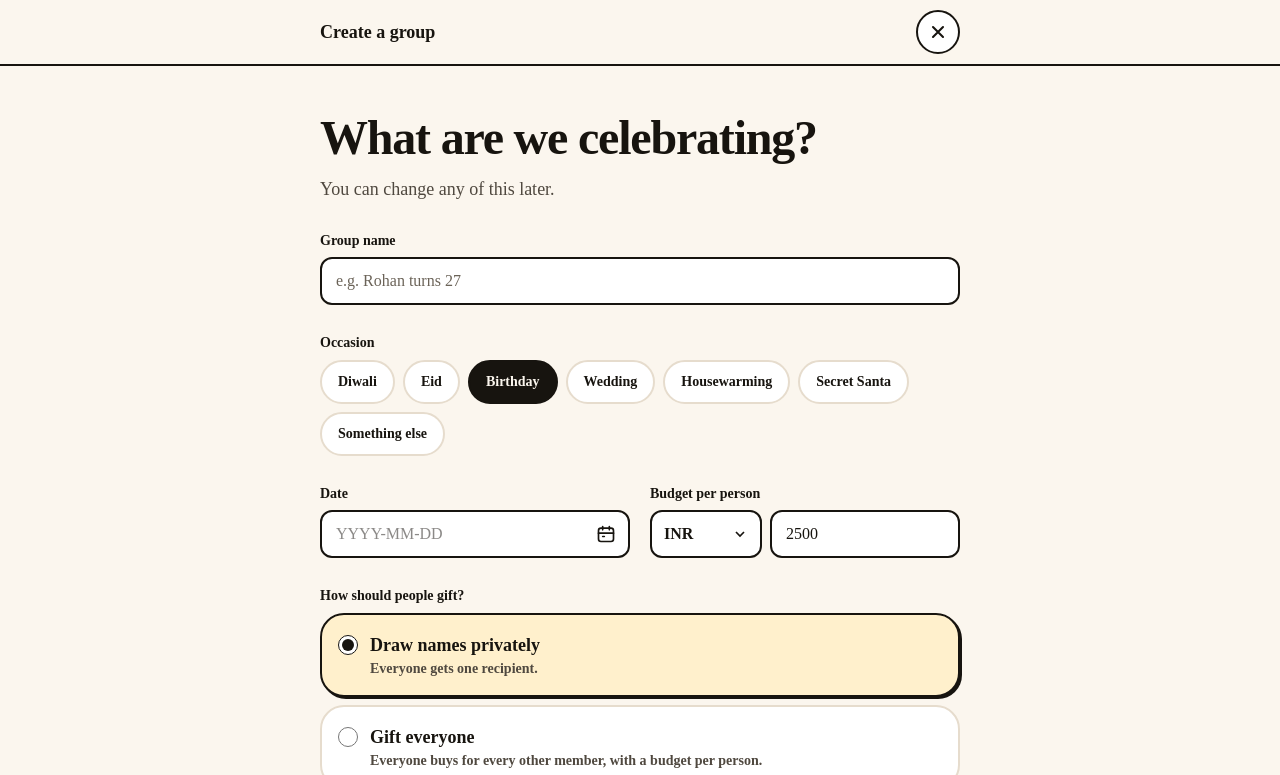
Test: CreateGroupScreen › still rejects impossible manually typed dates before any action
Type "Dinner together" into the field labelled "Group name" at (640,280), box [320,256,960,304]
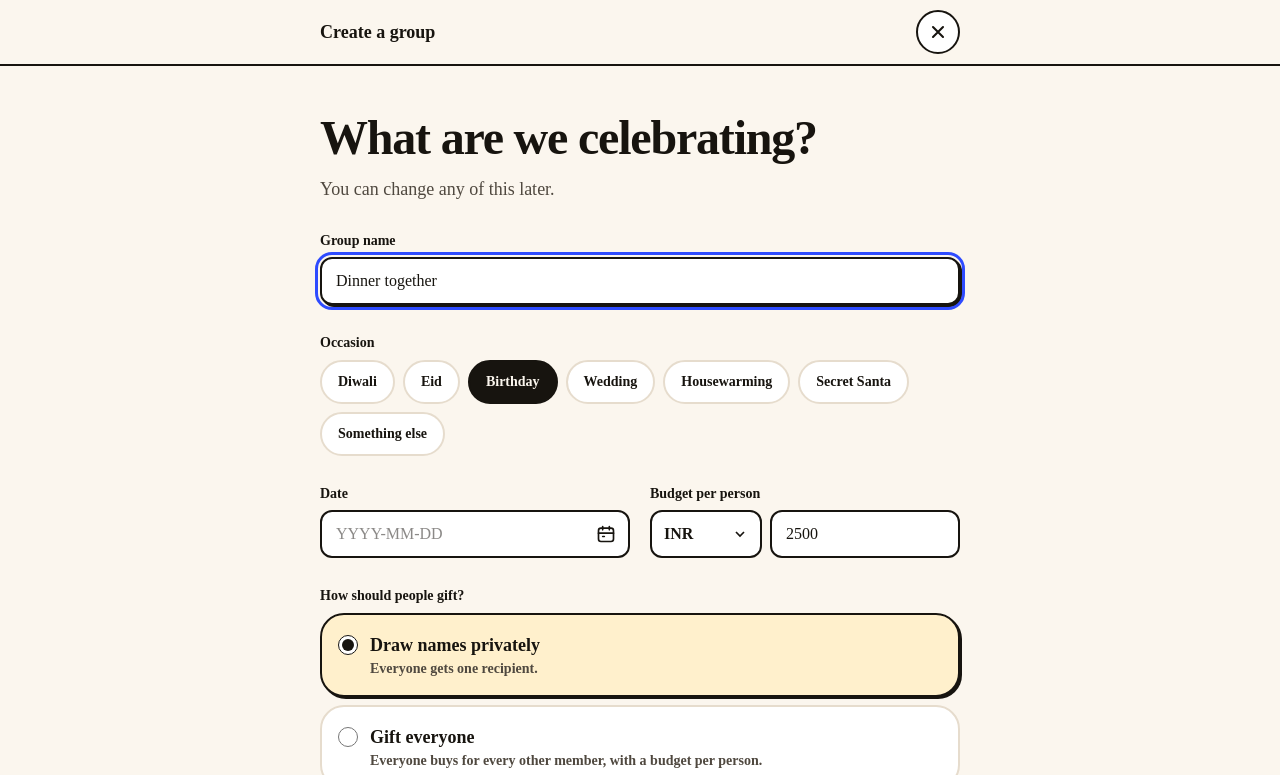
Type "2027-02-29" into the field labelled "Date" at (475,534), box [320,510,630,558]
(page scrolled)
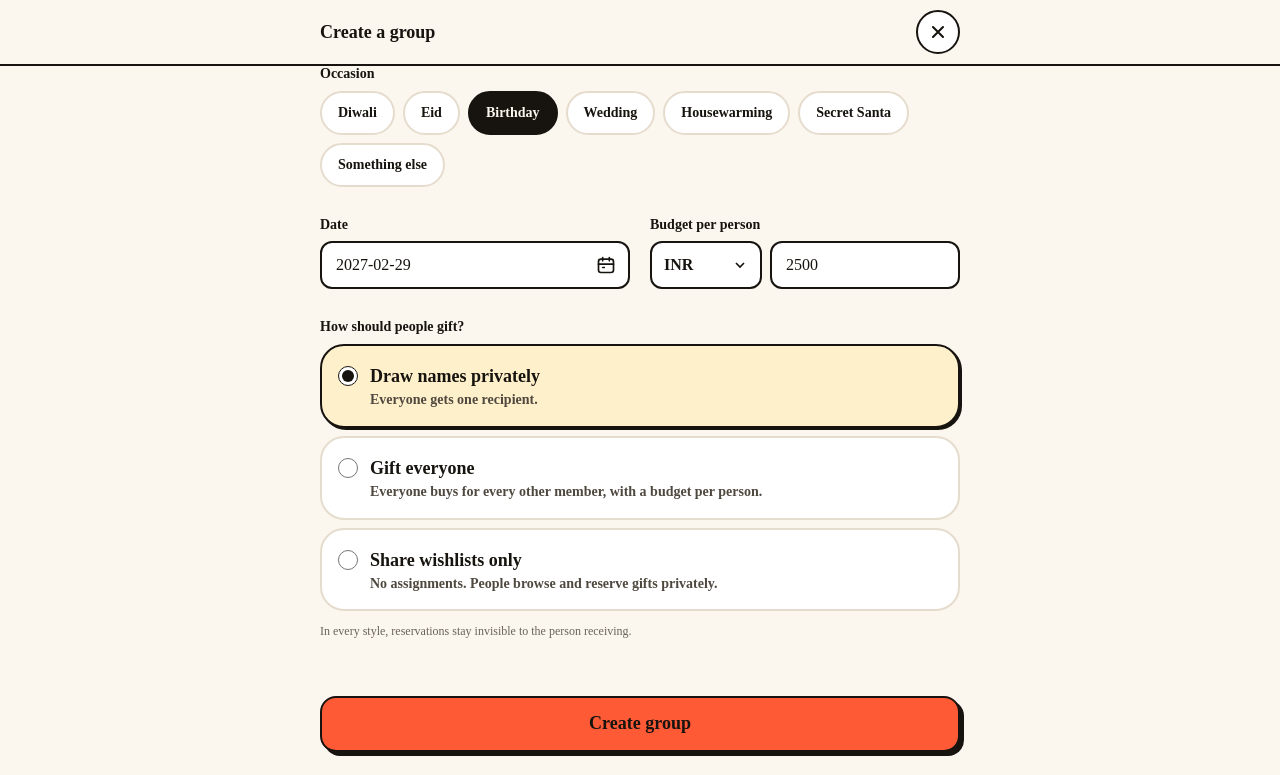
Click the button "Create group" at (640,724), box [320,696,960,752]
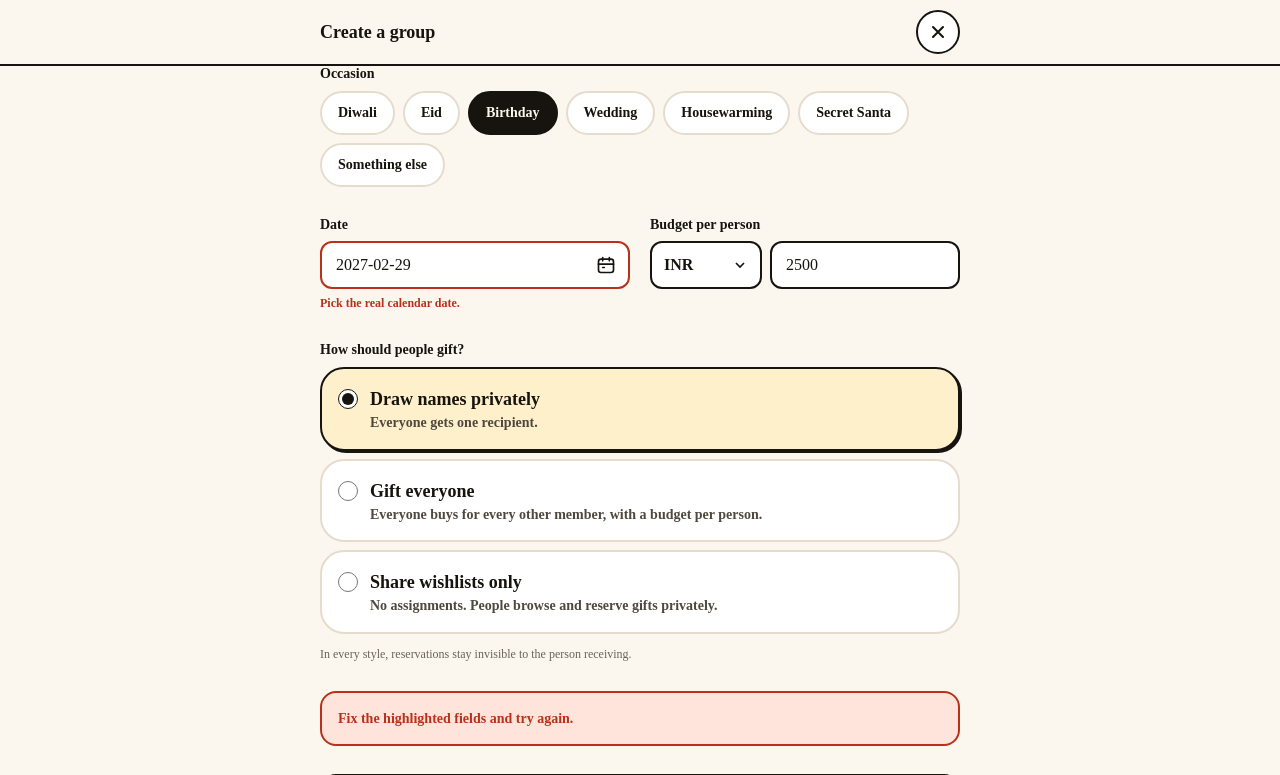
expect the text "Pick the real calendar date." is shown: met, box [320,296,460,310]
